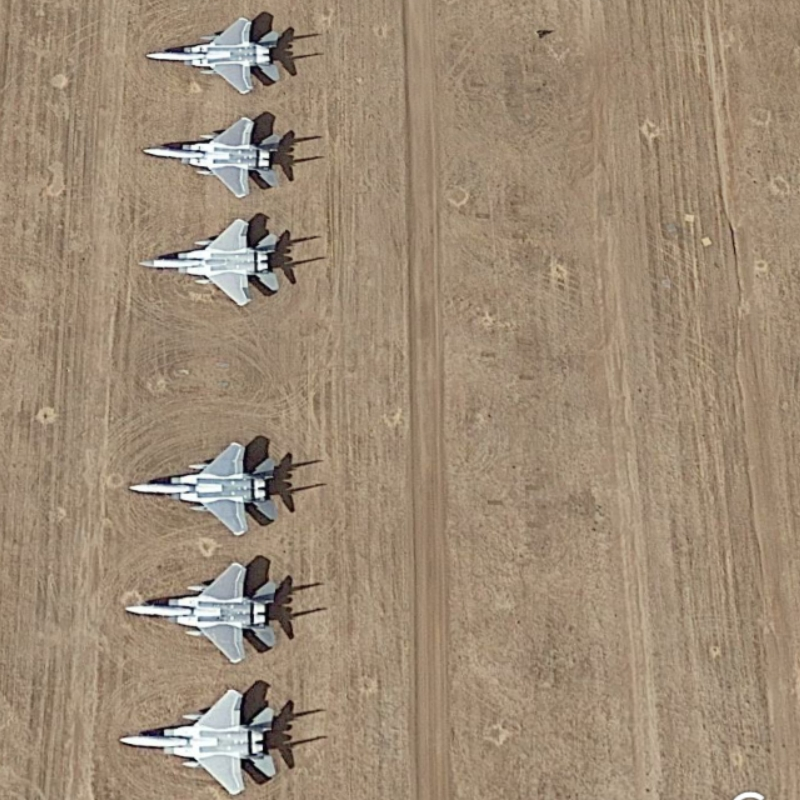A13: (119, 677, 291, 797), (121, 555, 301, 667), (125, 429, 298, 544), (135, 211, 300, 314), (137, 111, 297, 200), (147, 10, 305, 100)
